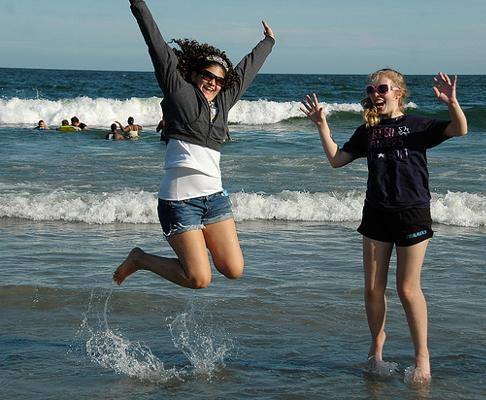person: (112, 2, 276, 292)
